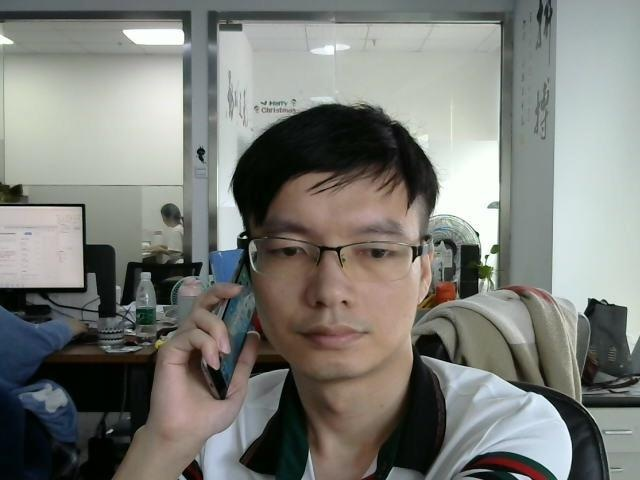hand: (166, 286, 261, 423)
